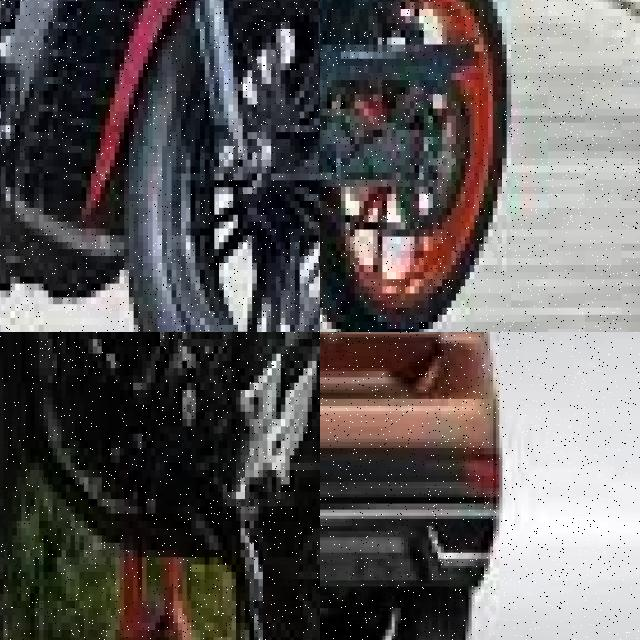bike: (0, 0, 320, 332), (0, 332, 320, 640), (320, 0, 525, 332)
car: (320, 332, 527, 640)
